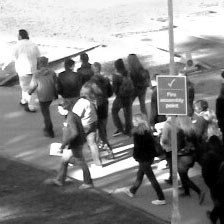person: (123, 112, 166, 204), (52, 104, 92, 191), (174, 104, 204, 203), (71, 87, 104, 169), (28, 56, 58, 138), (82, 77, 108, 161), (89, 60, 112, 150), (13, 28, 38, 110), (111, 58, 131, 137), (128, 49, 150, 119), (57, 58, 82, 114), (208, 138, 224, 224), (162, 107, 179, 186), (194, 100, 215, 151), (175, 71, 195, 121), (150, 73, 166, 126), (77, 50, 93, 85), (216, 70, 224, 137)
